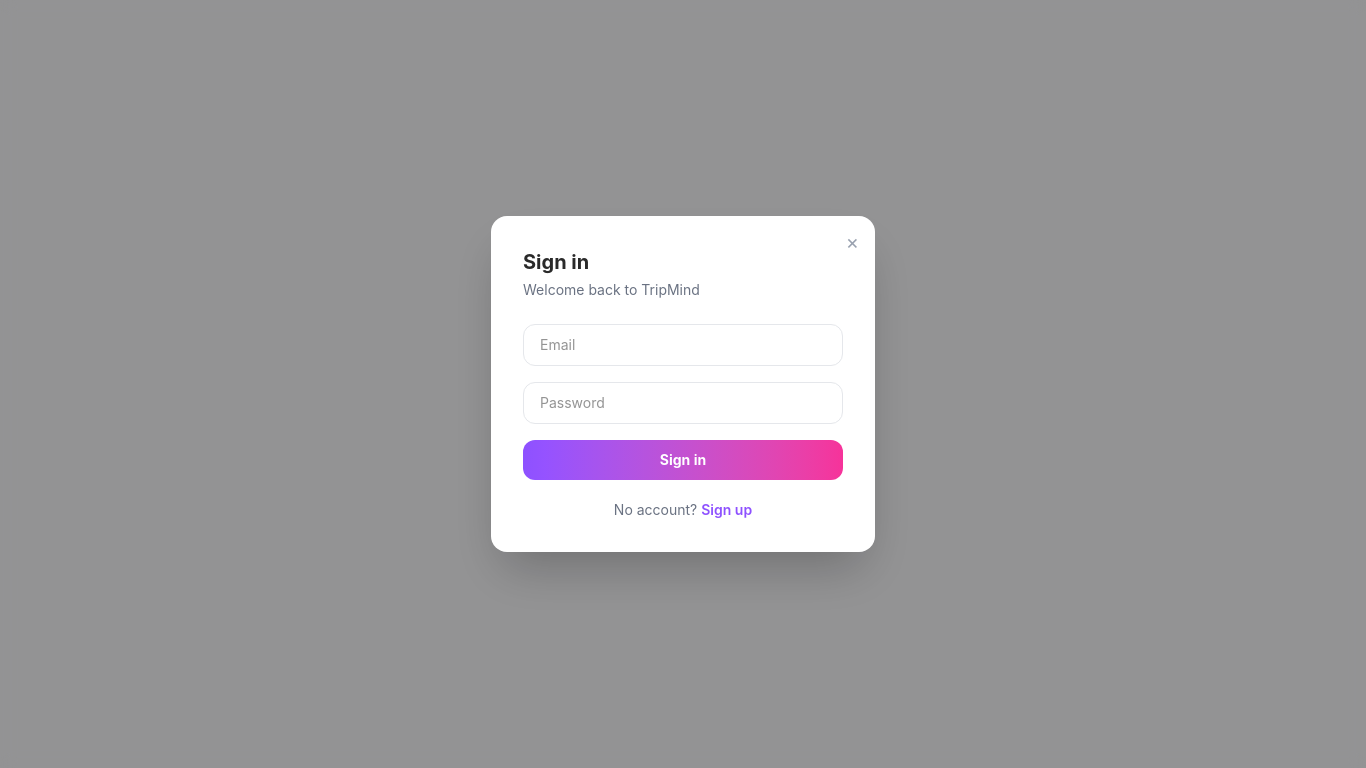
Test: AuthModal — mode toggle › switches to sign up mode
Click the button "Sign up" at (727, 510), box [701,500,752,520]
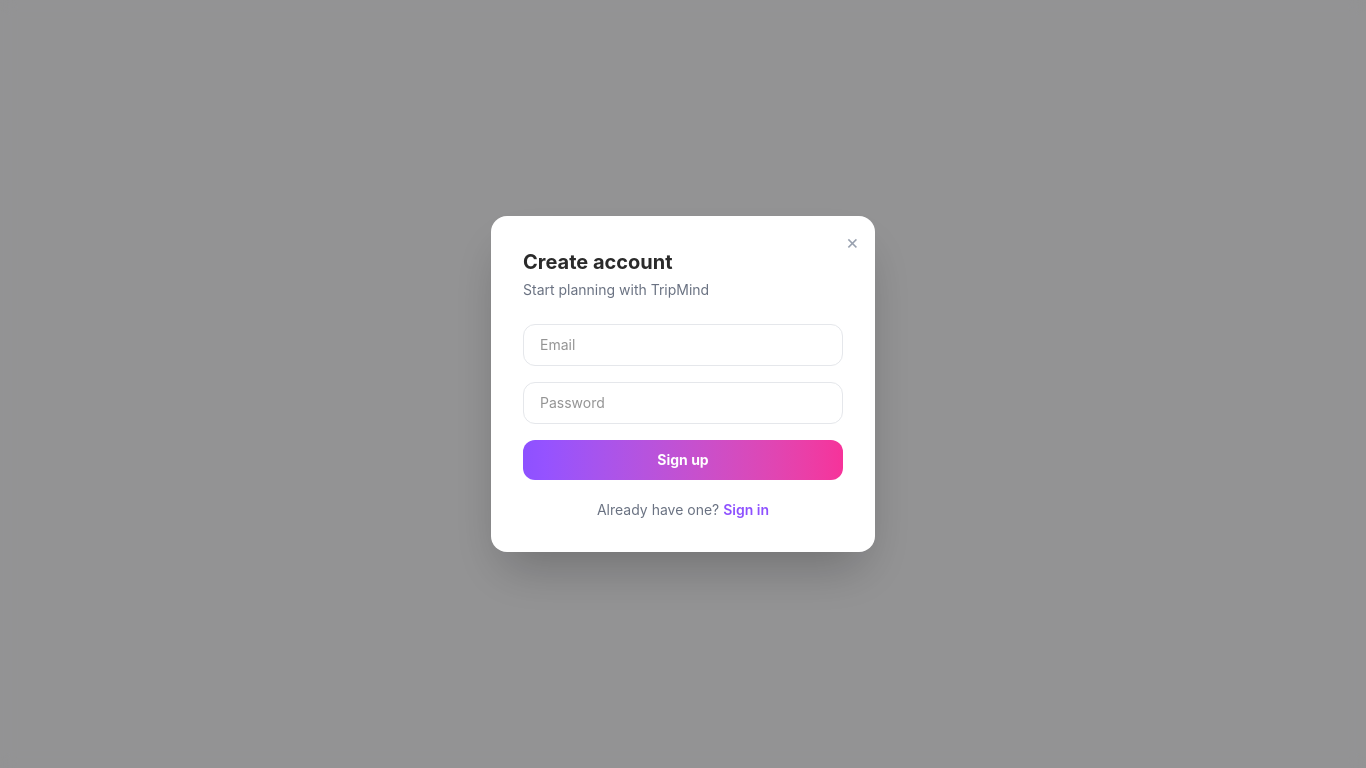
Result: the heading "Create account" is shown at [523,250,673,274]
